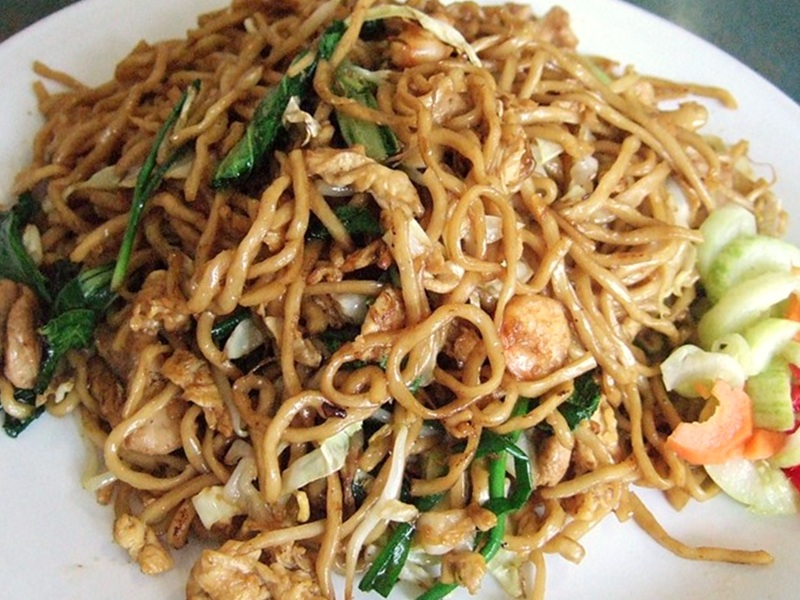Mie Goreng: (85, 62, 675, 518)
